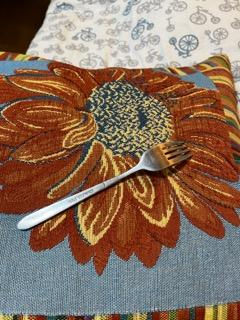fork: (16, 138, 194, 232)
